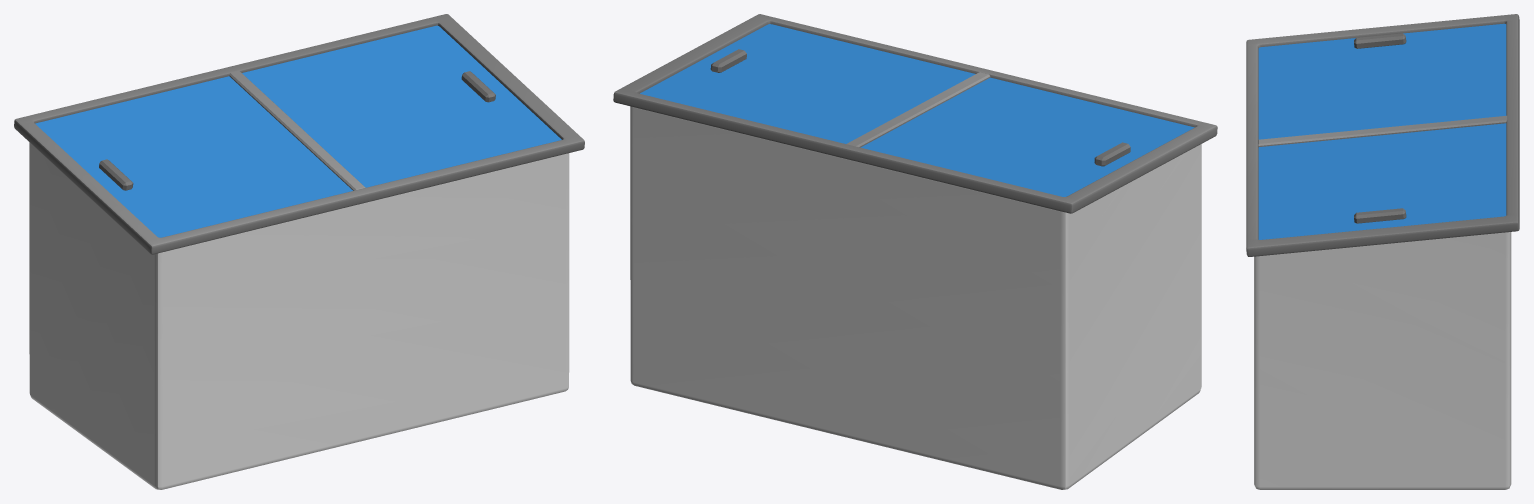
The model's file is İce_Cream_Freeze.fbx.
3 renders of one model, left to right at view 1: azimuth 30°, elevation 25°; view 2: azimuth 150°, elevation 25°; view 3: azimuth 270°, elevation 25°, orthographic. The views are drawn at different scales.
Parts seen in each view (by area): view 1: İce_Cream_Freeze; view 2: İce_Cream_Freeze; view 3: İce_Cream_Freeze.
Part boxes in pixels (x1,y1,x2,y2): İce_Cream_Freeze: [14, 14, 584, 489]; İce_Cream_Freeze: [613, 14, 1217, 489]; İce_Cream_Freeze: [1246, 14, 1519, 489].
Size of the model in its own units: 158 by 96.84 by 87.21.
